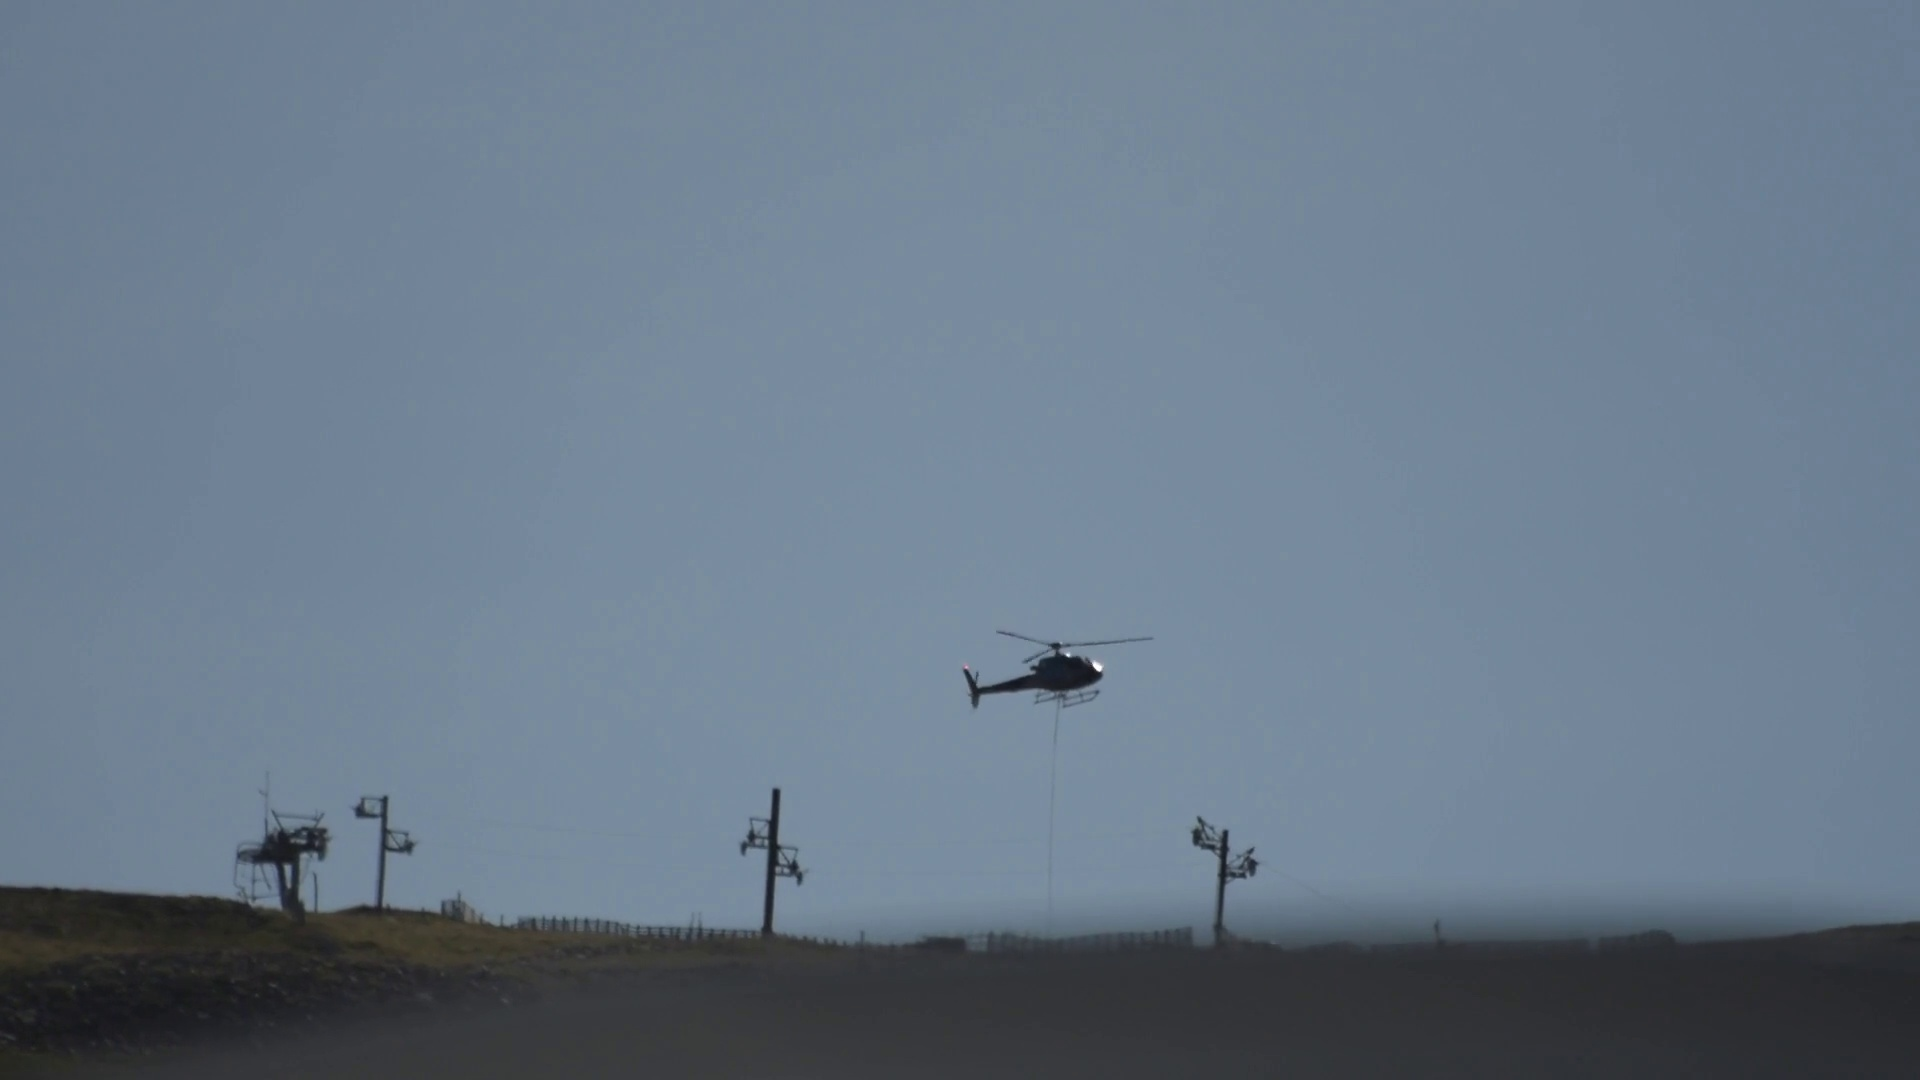heli: (960, 626, 1153, 712)
